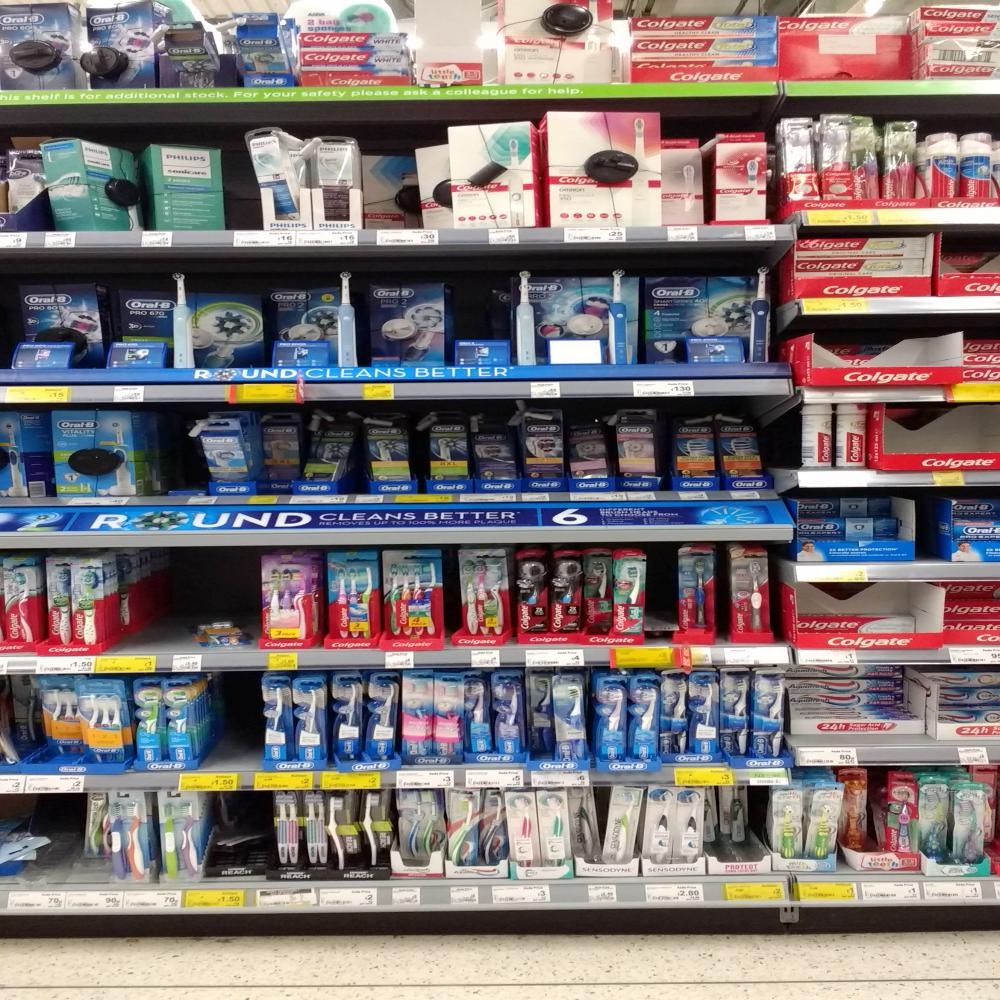shelf: (0, 877, 1000, 915), (0, 645, 1000, 676), (0, 80, 1000, 106), (0, 378, 797, 406), (0, 522, 795, 549), (0, 766, 791, 792), (0, 222, 801, 246), (794, 742, 1000, 766), (799, 558, 1000, 581), (801, 294, 1000, 315), (801, 467, 1000, 488), (794, 207, 1000, 227), (807, 386, 1000, 403)
